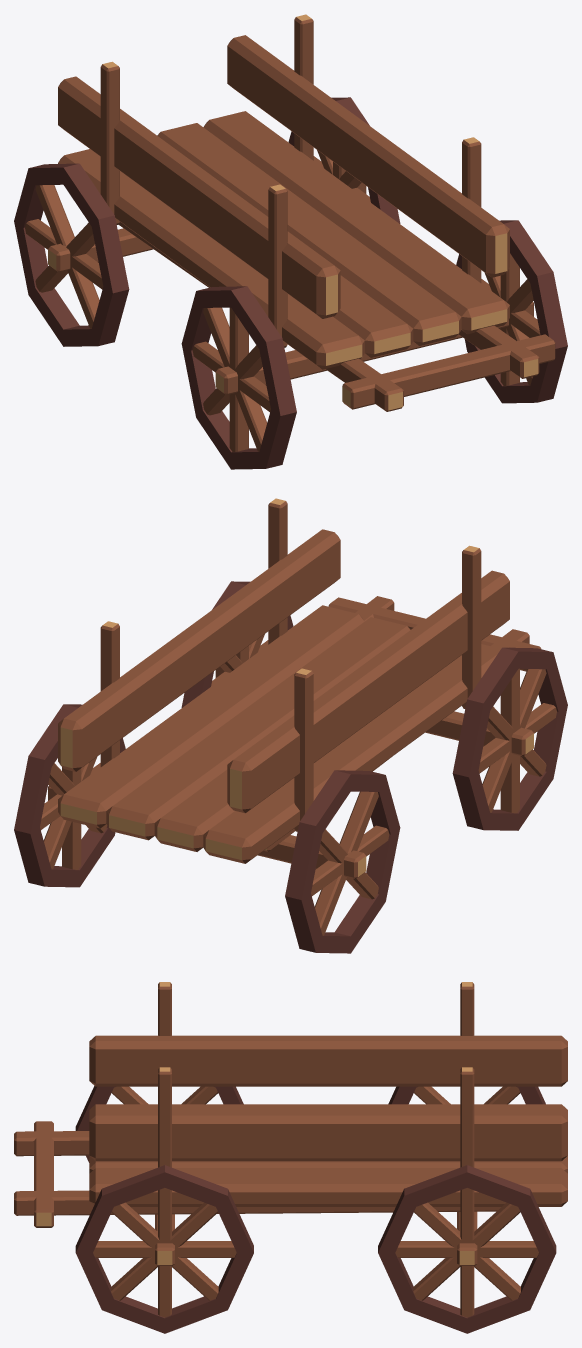
File: Carriage 2.fbx
The picture shows the model from 3 angles, top to bottom: view 1: azimuth 30°, elevation 25°; view 2: azimuth 150°, elevation 25°; view 3: azimuth 270°, elevation 25°; orthographic projection. The views are drawn at different scales.
Visible parts, largest first — view 1: Carriage_2; view 2: Carriage_2; view 3: Carriage_2.
Part boxes in pixels (box(x1,y1,x2,y2)): Carriage_2: box(14, 14, 567, 469); Carriage_2: box(14, 498, 567, 953); Carriage_2: box(14, 982, 567, 1333).
Bounding box in the file's own units: 0.64 × 0.5338 × 1.1.
